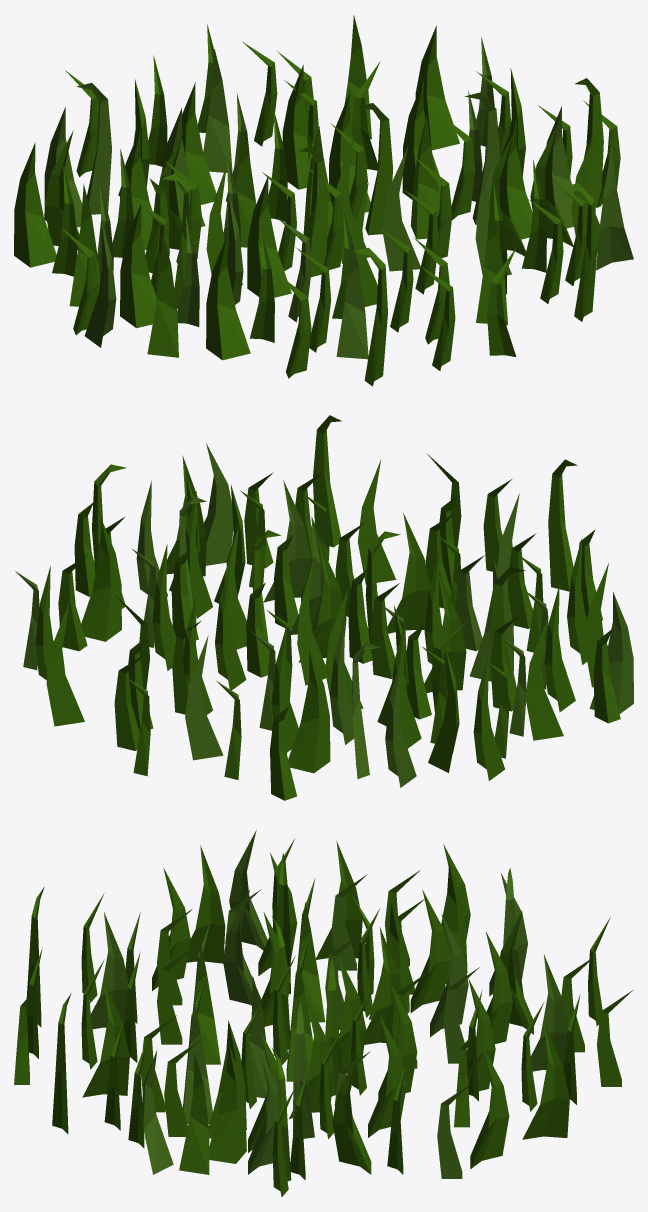
The model's file is Grass.fbx.
3 views of the same model, one above another, from view 1: azimuth 30°, elevation 25°; view 2: azimuth 150°, elevation 25°; view 3: azimuth 270°, elevation 25° (orthographic). The views are drawn at different scales.
Visible parts, largest first — view 1: Group56, Group80, Group61, Group54, Group83, Group63, Group6, Group44, Group66, Group72, Group21, Group29 (+73 smaller); view 2: Group79, Group35, Group66, Group28, Group49, Group46, Group69, Group19, Group72, Group67, Group27, Group61 (+69 smaller); view 3: Group60, Group69, Group44, Group64, Group5, Group35, Group83, Group77, Group6, Group72, Group43, Group53 (+66 smaller).
Boxes of the visible parts, box(x1,y1,x2,y2) form: Group56: box(206, 235, 250, 360); Group80: box(14, 142, 56, 267); Group61: box(120, 203, 156, 328); Group54: box(247, 176, 291, 297); Group83: box(415, 25, 459, 150); Group63: box(282, 64, 314, 189); Group6: box(336, 235, 368, 359); Group44: box(147, 233, 178, 357); Group66: box(596, 144, 633, 270); Group72: box(203, 49, 232, 173); Group21: box(76, 83, 111, 214); Group29: box(410, 116, 440, 239); Group79: box(288, 649, 330, 773); Group35: box(81, 517, 121, 641); Group66: box(204, 443, 233, 565); Group28: box(548, 459, 577, 591); Group49: box(387, 513, 429, 633); Group46: box(589, 592, 633, 713); Group69: box(46, 601, 84, 726); Group19: box(525, 616, 563, 740); Group72: box(185, 635, 223, 760); Group67: box(313, 415, 341, 547); Group27: box(263, 480, 311, 602); Group61: box(544, 585, 575, 712); Group60: box(209, 1042, 246, 1163); Group69: box(522, 1020, 569, 1139); Group44: box(186, 845, 225, 963); Group64: box(179, 1052, 209, 1174); Group5: box(82, 979, 129, 1097); Group35: box(332, 1051, 371, 1174); Group83: box(470, 1045, 509, 1168); Group77: box(410, 889, 449, 1012); Group6: box(90, 912, 128, 1029); Group72: box(530, 955, 568, 1071); Group43: box(223, 889, 261, 1005); Group53: box(364, 927, 405, 1044).
Size of the model in its own units: 971 by 222 by 966.
